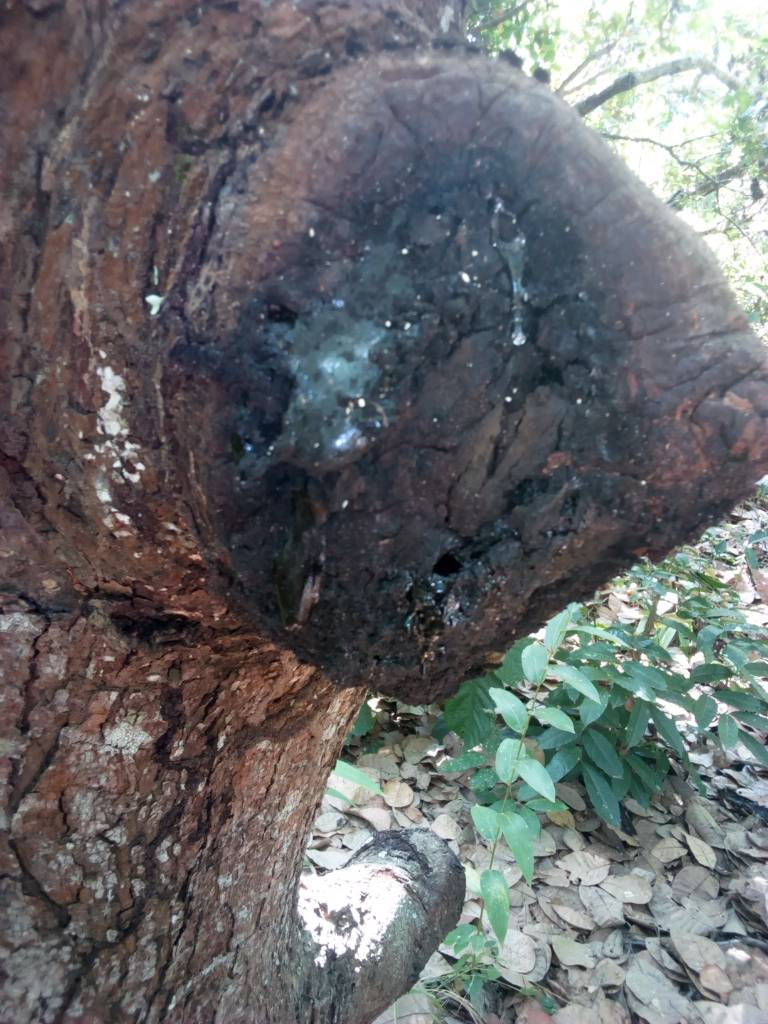Termites: (80, 697, 321, 1021)
